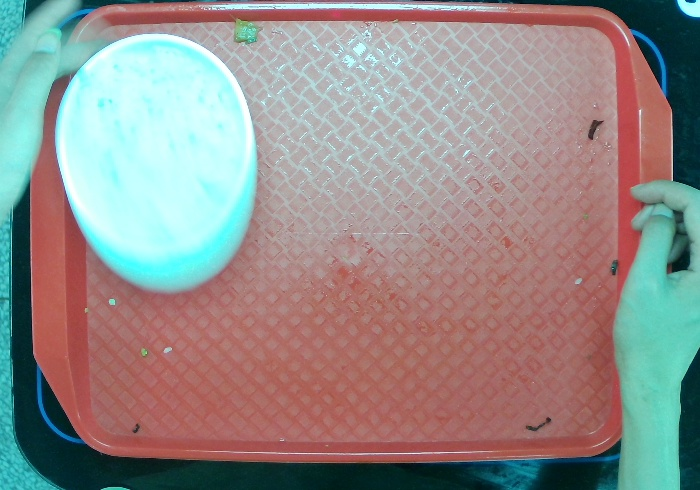YKMZ-Fan_Wan: (54, 33, 263, 291)
